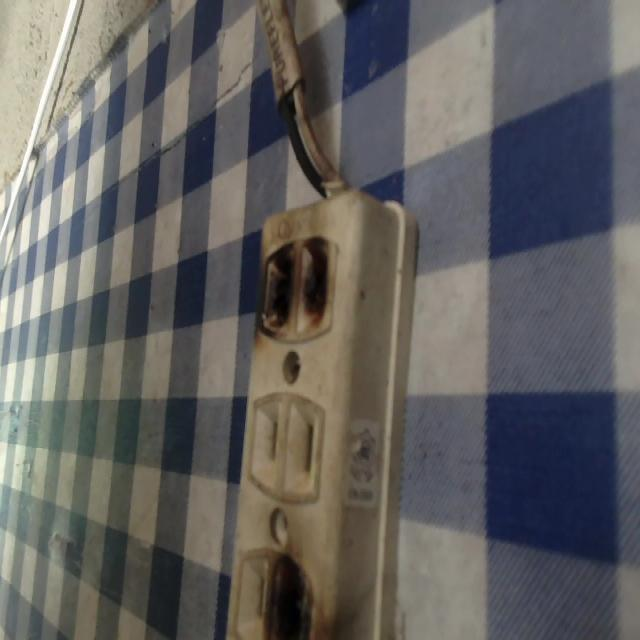-: (246, 223, 337, 348), (257, 542, 327, 638)
